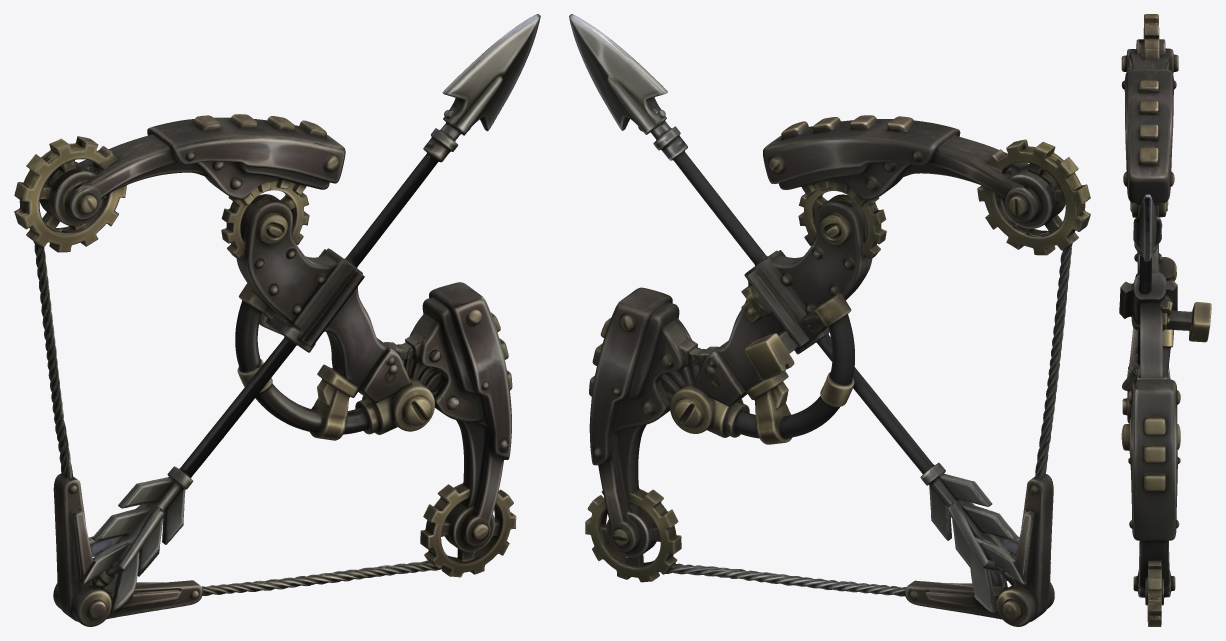
Rendered from Meshy_AI_Mech_Bow_Model_0217084226_texture.fbx.
3 views of the same model, side by side, from view 1: azimuth 30°, elevation 25°; view 2: azimuth 150°, elevation 25°; view 3: azimuth 270°, elevation 25° (orthographic). The views are drawn at different scales.
Parts seen in each view (by area): view 1: Mesh_0; view 2: Mesh_0; view 3: Mesh_0.
Part boxes in pixels (x1,y1,x2,y2): Mesh_0: (14,14,540,626); Mesh_0: (569,14,1090,626); Mesh_0: (1119,14,1211,626).
Bounding box in the file's own units: 190 × 190 × 35.18.
1 material, 1 textured.
